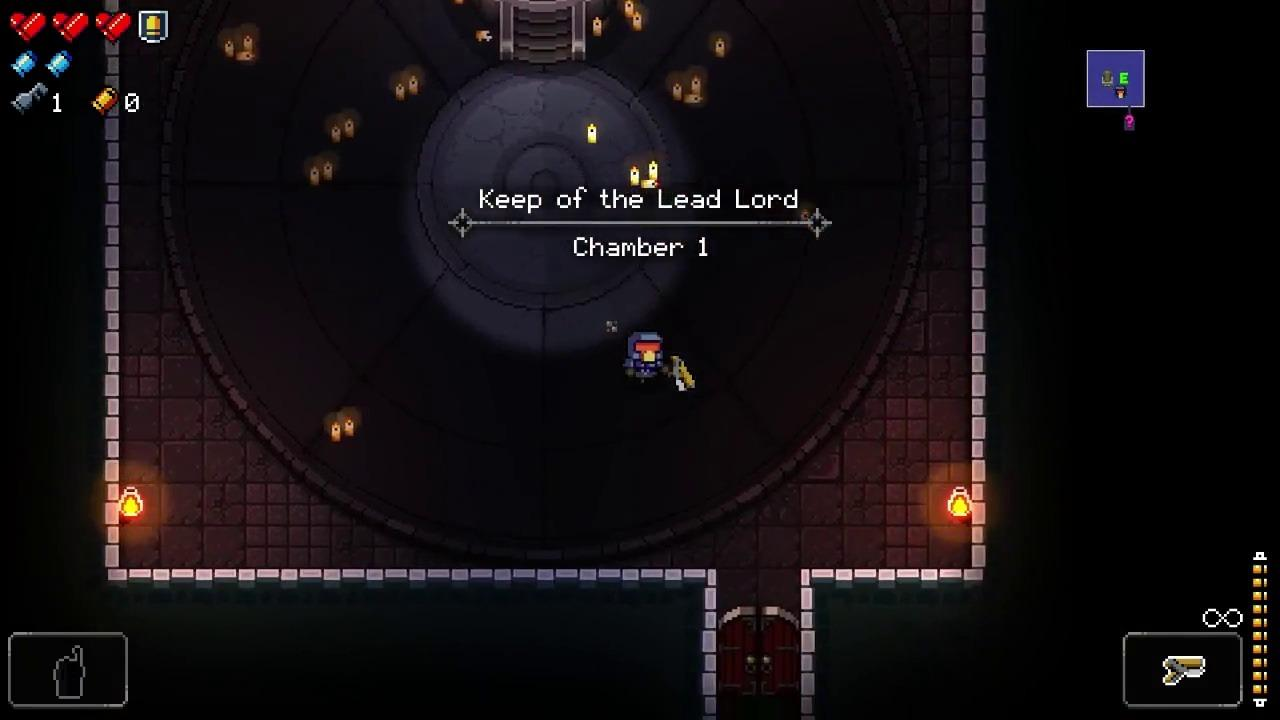player: (626, 331, 664, 384)
unlocked_door: (718, 608, 801, 699)
